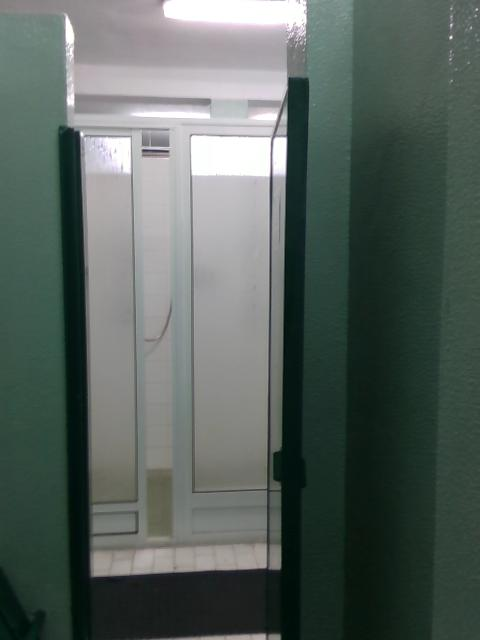open_door: (56, 74, 311, 639)
